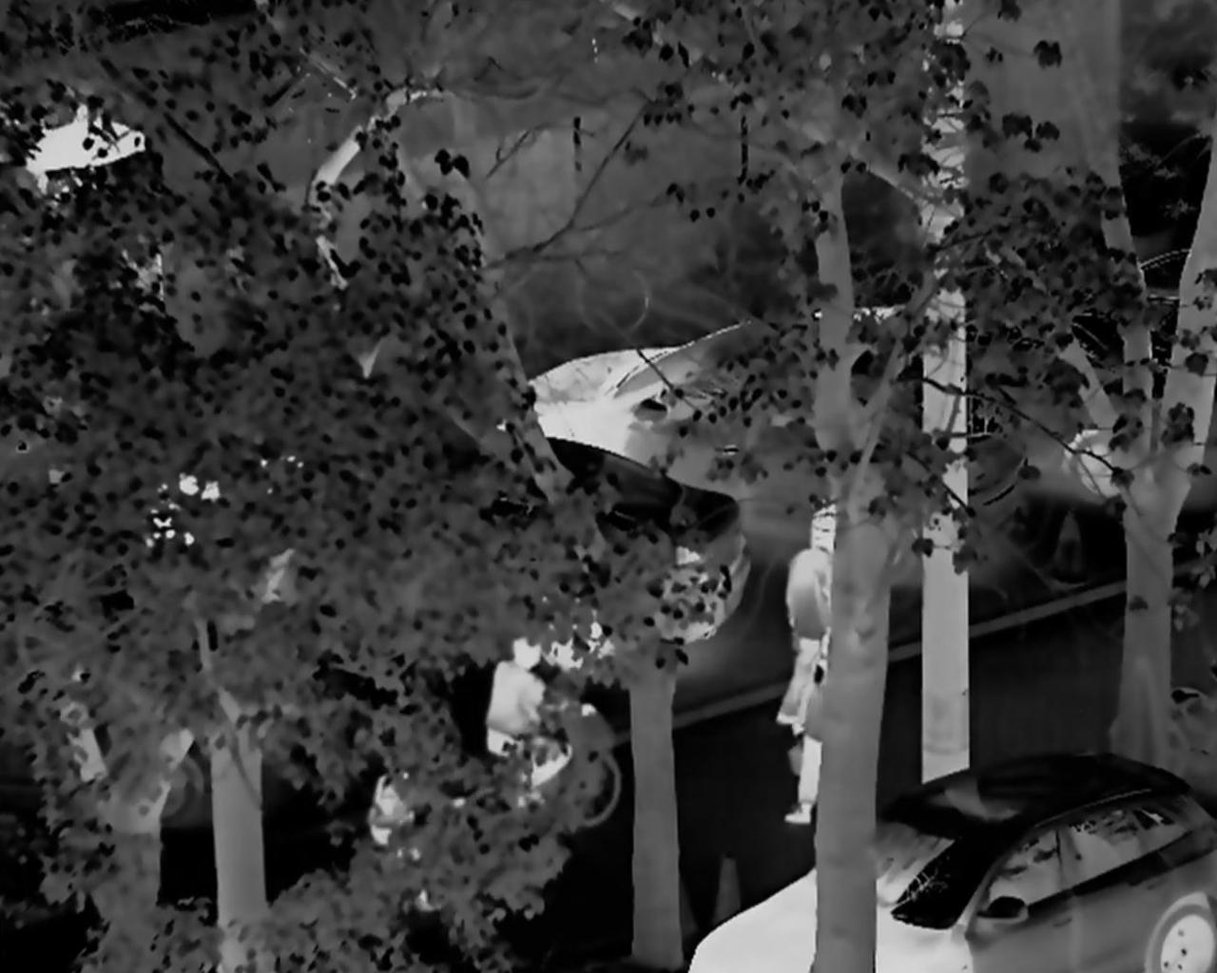person: (460, 631, 609, 805), (790, 643, 868, 832), (786, 493, 851, 691), (361, 766, 442, 903)
